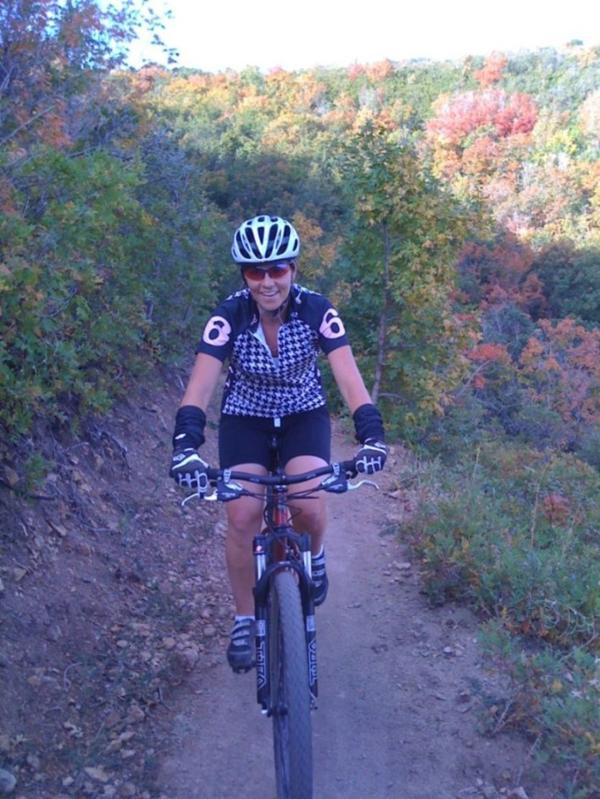person: (170, 214, 389, 669)
